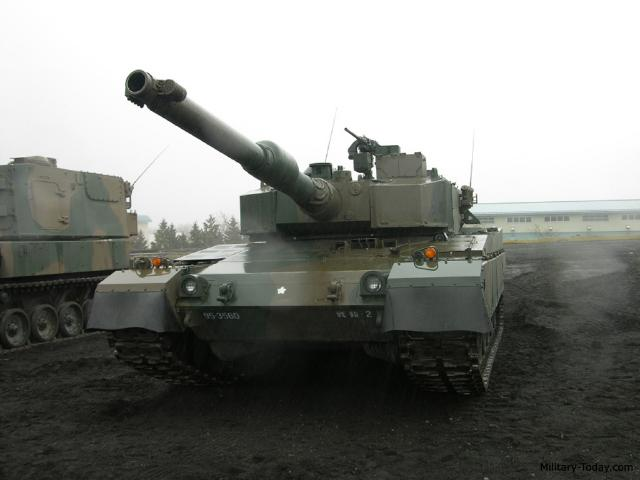tank: (103, 138, 507, 394)
